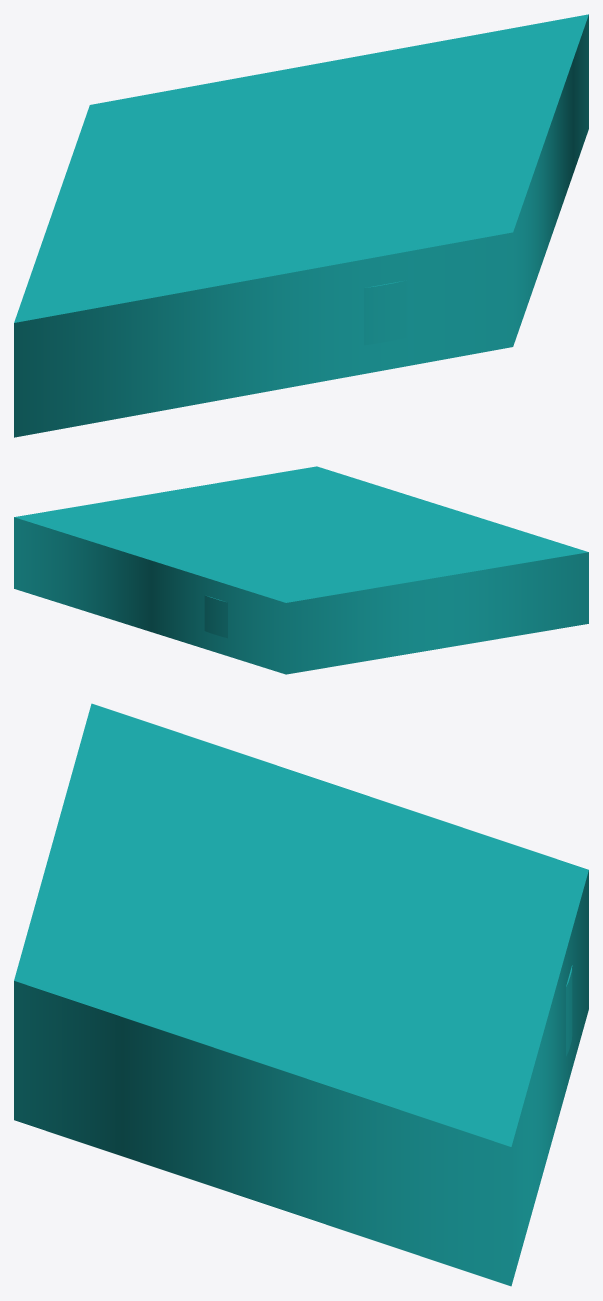
File: tailwindcss.gltf
The picture shows the model from 3 angles, top to bottom: view 1: azimuth 30°, elevation 25°; view 2: azimuth 150°, elevation 25°; view 3: azimuth 270°, elevation 25°; orthographic projection. The views are drawn at different scales.
Visible parts, largest first — view 1: Cannon.004, Curve; view 2: Cannon.004, Curve; view 3: Cannon.004.
Part boxes in pixels (x1,y1,x2,y2): Cannon.004: [14, 14, 588, 437]; Curve: [364, 280, 406, 345]; Cannon.004: [14, 466, 588, 674]; Curve: [204, 595, 227, 638]; Cannon.004: [14, 703, 588, 1286].
Size of the model in its own units: 0.8191 by 0.12 by 0.4485.
